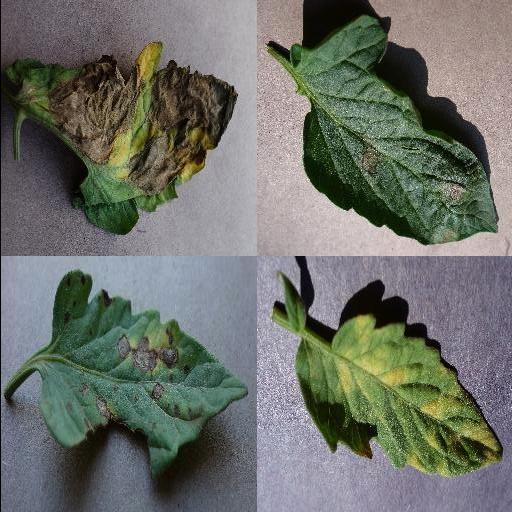Early Blight: (37, 271, 249, 479)
Late Blight: (288, 13, 500, 247), (0, 42, 240, 238)
Leaf Mold: (293, 313, 503, 477)
